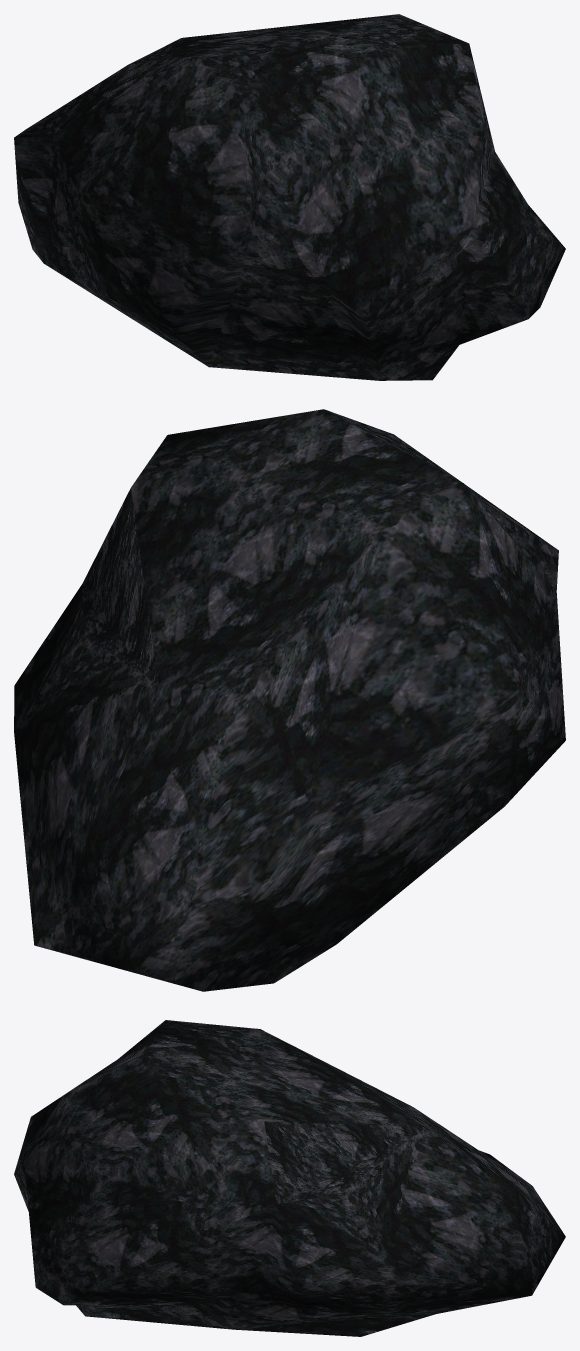
File: asteroid_obsidian_large_s01_l3.fbx
The picture shows the model from 3 angles, top to bottom: view 1: azimuth 30°, elevation 25°; view 2: azimuth 150°, elevation 25°; view 3: azimuth 270°, elevation 25°; orthographic projection. The views are drawn at different scales.
Visible parts, largest first — view 1: mesh_node; view 2: mesh_node; view 3: mesh_node.
Boxes of the visible parts, bbox=[...] form: mesh_node: bbox=[14, 14, 565, 380]; mesh_node: bbox=[14, 409, 565, 991]; mesh_node: bbox=[14, 1020, 565, 1336].
Size of the model in its own units: 101 by 81.17 by 147.
1 material, 1 textured.
